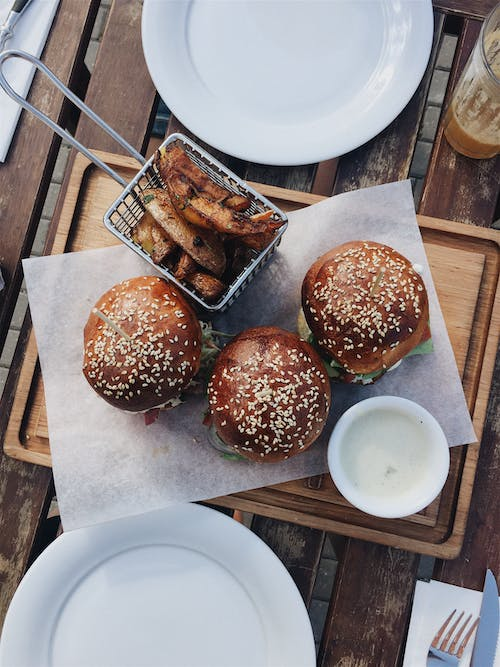knife: (466, 566, 500, 667)
